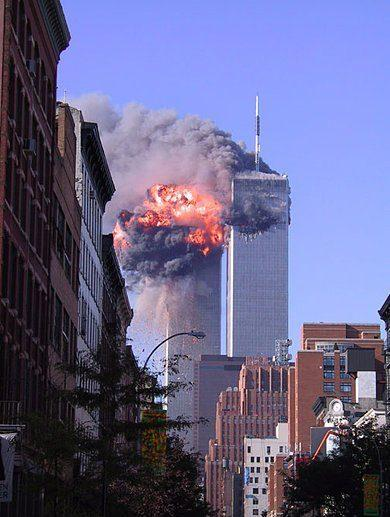smoke: (114, 123, 235, 186), (126, 227, 185, 266)
